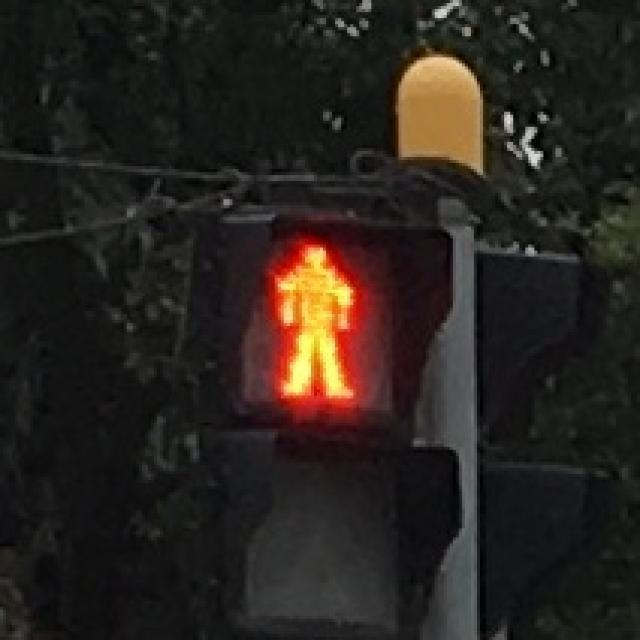red-crossing: (254, 224, 372, 410)
